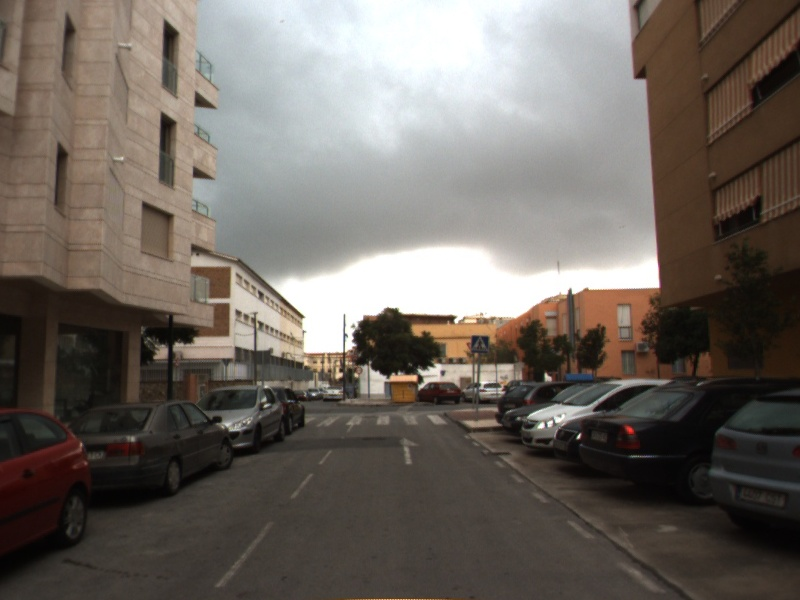STRAIGHT: (396, 435, 422, 467)
